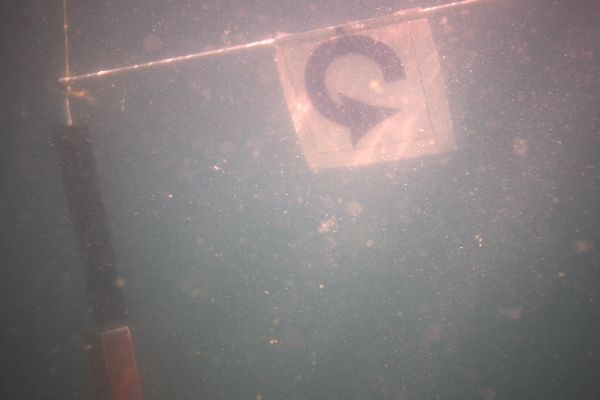gate: (51, 0, 478, 400)
gate_bleue: (274, 9, 456, 171)
